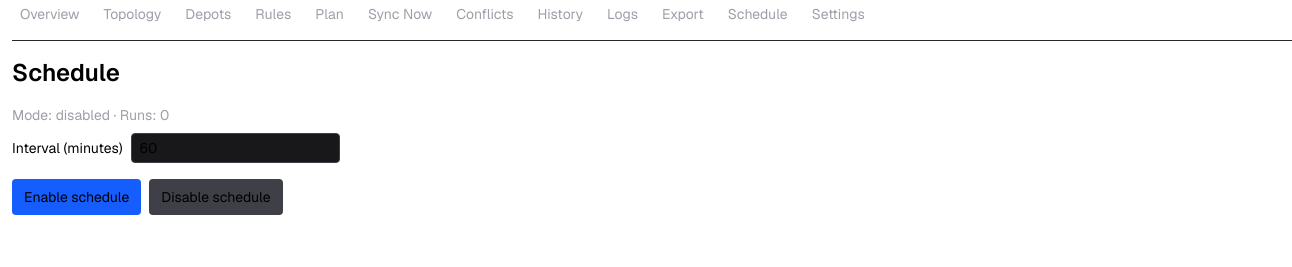
Test: MeshScheduleClient [IMPL-MESH_SCHEDULE] › schedule_can_be_enabled_from_gui
This screenshot has width=1292, height=267.
Click the button with test id "schedule-enable-btn".
click(77, 197)  # box [12,179,141,215]
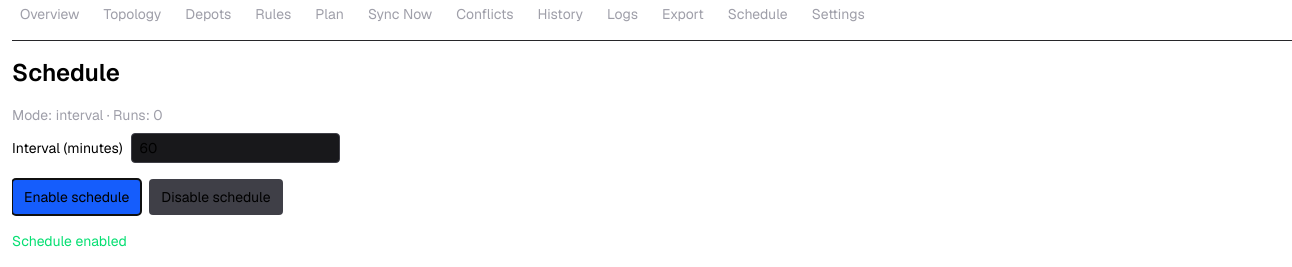
Expected: the text with test id "schedule-message" shows "enabled", [12,232,127,250]
